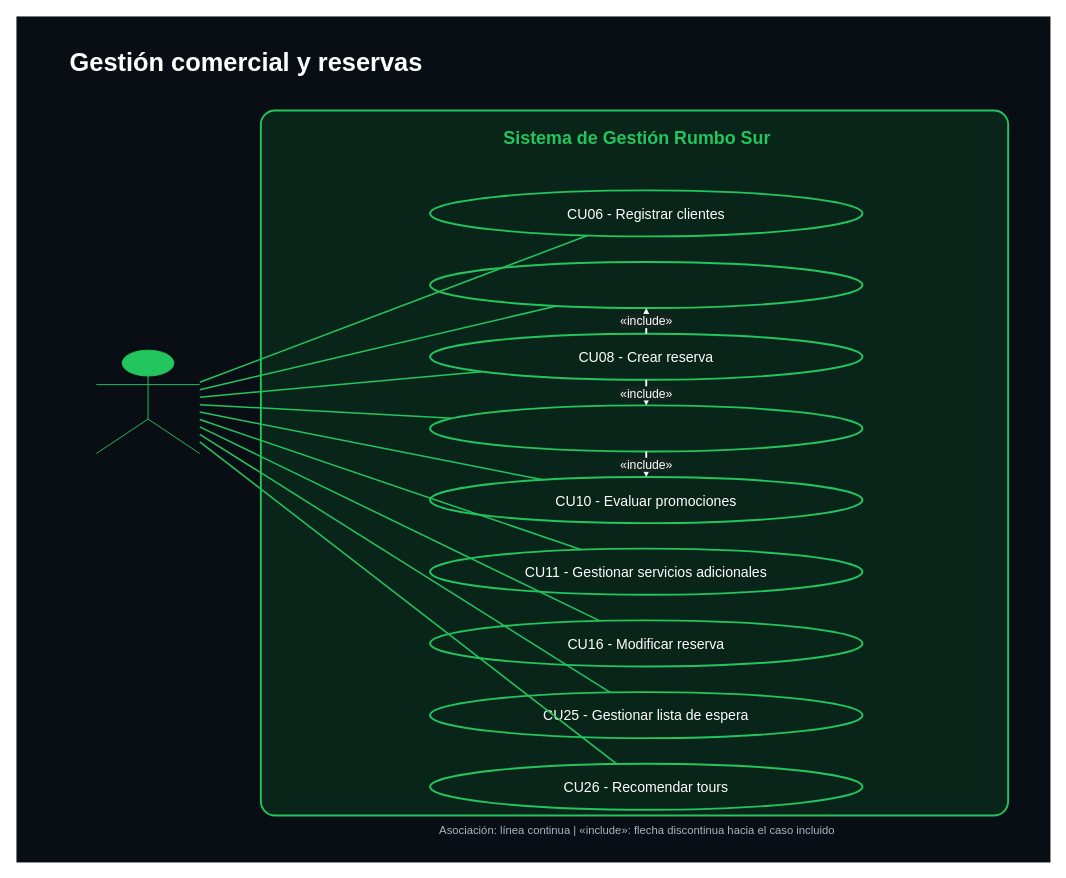
This 1066x878 diagram has some shape labels left out. The shapes that lost their labels are listed below. From the top down, each one's centre as x and y in pixels, then its label:
At (646,285): "CU07 - Registrar pasajeros".
At (147,401): "Vendedor".
At (646,428): "CU09 - Calcular precio de reserva".
